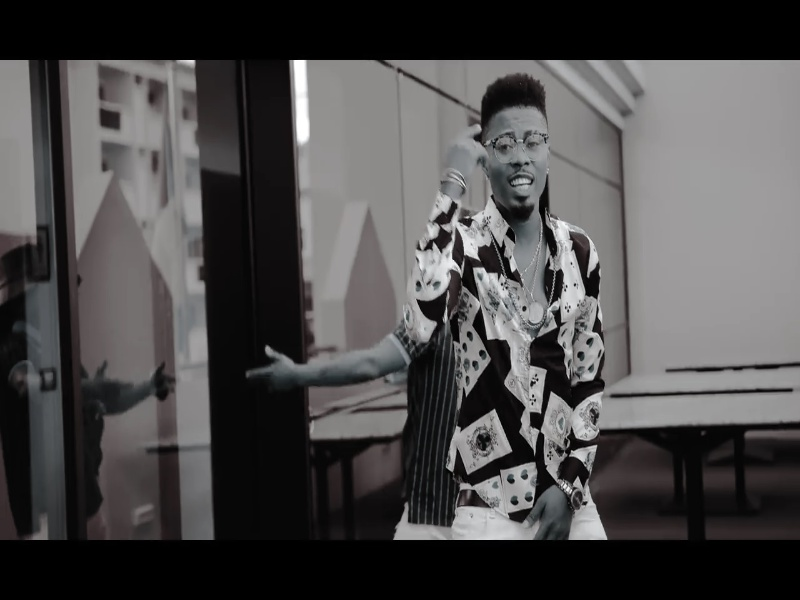TsisyArotava: (468, 93, 566, 233)
